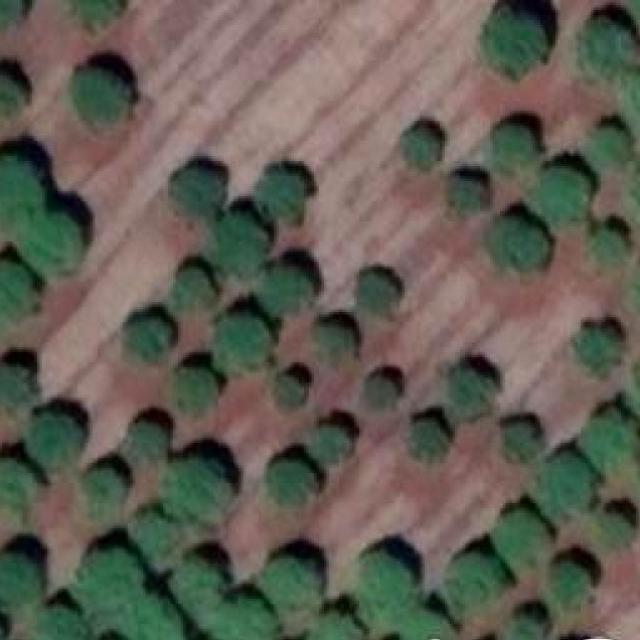Tree: (485, 10, 545, 76), (77, 548, 138, 612), (17, 213, 78, 272), (359, 553, 415, 617), (165, 461, 230, 516), (578, 20, 636, 81), (530, 166, 589, 224), (484, 214, 547, 268), (537, 453, 593, 513), (210, 214, 264, 275), (215, 315, 269, 368), (214, 593, 274, 640), (0, 157, 41, 225), (123, 593, 182, 640), (447, 556, 500, 607), (494, 513, 548, 562), (79, 68, 128, 122), (263, 558, 316, 607), (583, 418, 636, 466), (29, 412, 78, 463), (173, 560, 223, 609), (258, 265, 311, 310), (175, 169, 223, 214), (450, 372, 495, 418), (269, 461, 319, 501), (492, 126, 535, 169), (130, 514, 178, 552), (259, 171, 304, 211), (577, 327, 621, 367), (173, 367, 213, 411), (0, 262, 32, 317), (0, 556, 37, 602), (32, 606, 81, 640), (552, 561, 588, 607), (125, 423, 168, 461), (84, 468, 122, 511), (309, 611, 364, 640), (403, 604, 447, 640), (314, 322, 354, 360), (0, 460, 30, 510), (402, 128, 439, 166), (128, 320, 168, 355), (588, 129, 628, 162), (358, 274, 392, 312), (67, 0, 118, 25), (445, 176, 483, 209), (593, 227, 626, 264), (316, 426, 351, 459), (175, 272, 208, 307), (596, 514, 631, 546), (506, 423, 536, 458), (414, 422, 444, 456), (274, 376, 304, 406), (0, 368, 25, 400), (502, 619, 540, 640), (366, 378, 396, 402), (0, 78, 20, 112), (0, 0, 22, 22)
